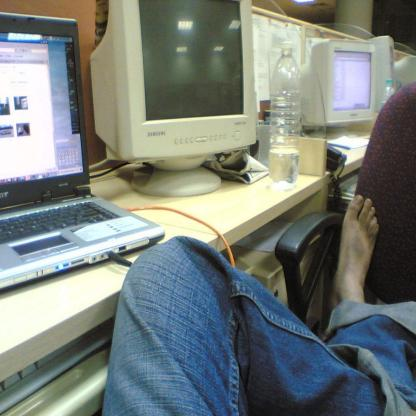board: (0, 9, 165, 294), (270, 43, 299, 191), (381, 78, 396, 109)
